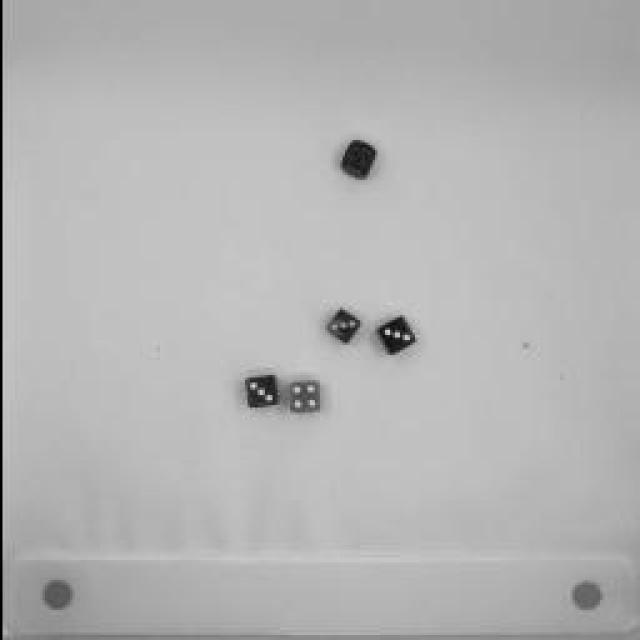dice_3: (376, 318, 414, 360), (245, 372, 280, 410), (322, 310, 358, 345)
dice_4: (332, 142, 378, 178), (288, 378, 322, 418)
